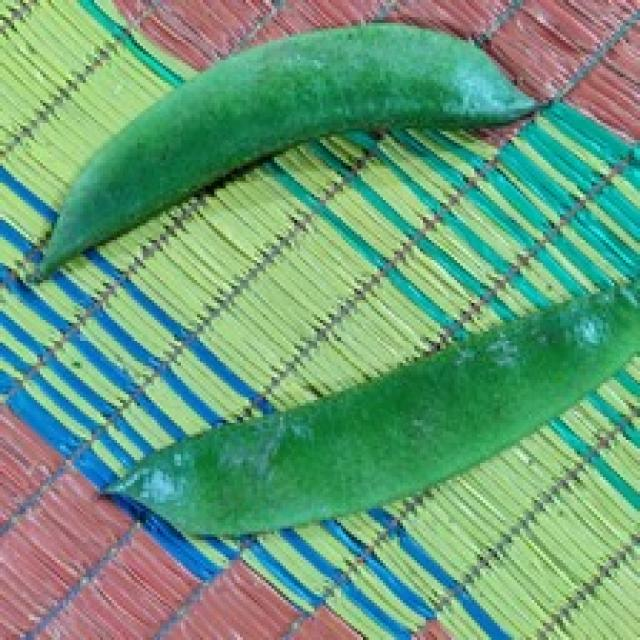Bean: (120, 270, 637, 548), (12, 17, 537, 289)
